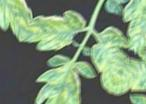Tomato leaf mosaic virus: (12, 0, 90, 78), (68, 19, 139, 101), (20, 44, 102, 104), (91, 0, 146, 65), (41, 0, 97, 22)
